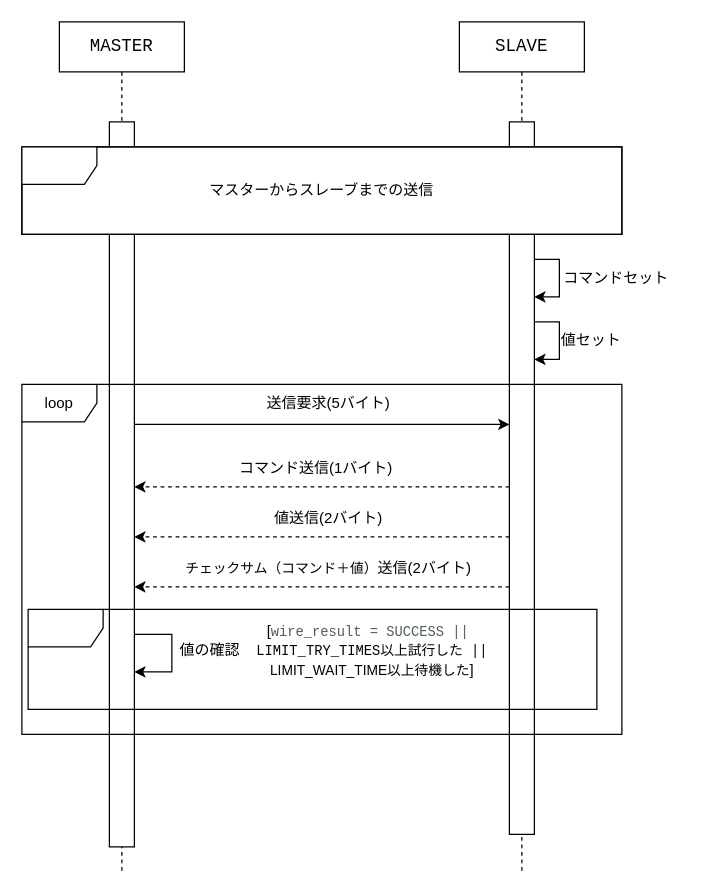
The diagram is 706 pixels wide and 894 high, and some of its shapes have lost their labels. The shapes that lost their labels are listed below. From the top down, each one's centre as x and y in pixels, then its label:
pixel 321 190: ref
pixel 312 658: break
